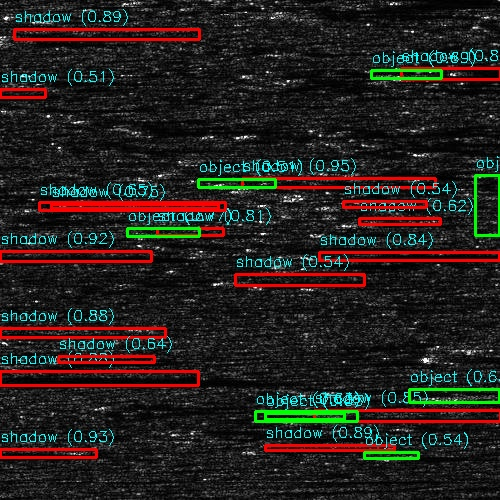rock: (371, 67, 464, 80), (467, 338, 498, 359), (98, 122, 151, 131), (413, 356, 476, 363), (273, 254, 356, 259), (408, 148, 481, 153), (1, 30, 32, 41), (207, 181, 270, 186), (1, 203, 64, 208), (234, 446, 287, 451), (0, 329, 25, 338), (451, 393, 492, 396)
shadow: (17, 30, 200, 41), (0, 329, 158, 338), (125, 122, 251, 131), (418, 67, 500, 80), (239, 181, 433, 186), (315, 254, 500, 259), (33, 203, 217, 208), (0, 376, 175, 381), (0, 252, 145, 257), (261, 446, 393, 451), (0, 451, 107, 456), (445, 356, 500, 363), (445, 148, 500, 153)
